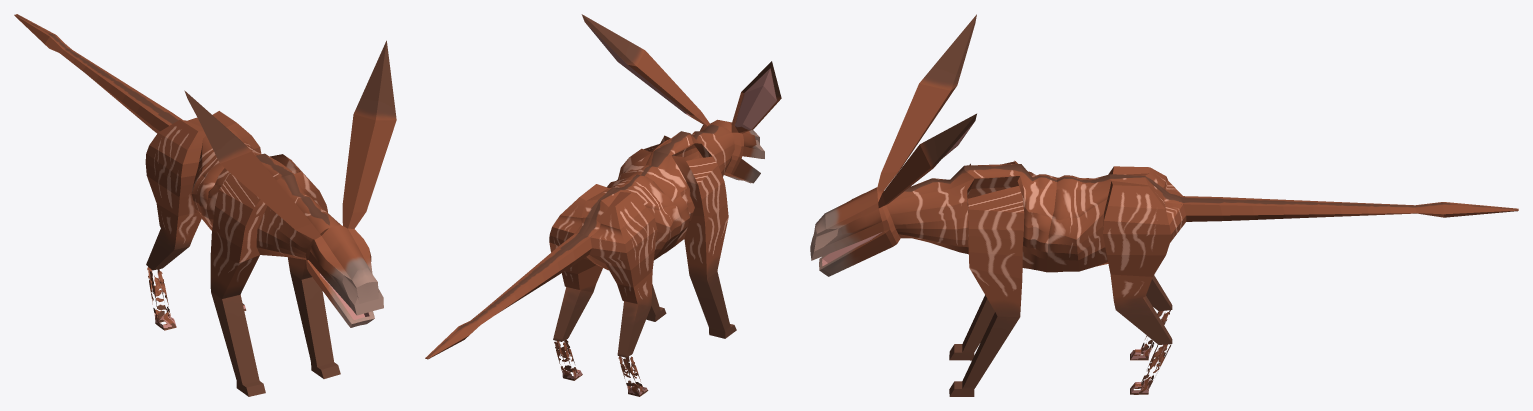
The model's file is TestModel.obj.
3 views of the same model, side by side, from view 1: azimuth 30°, elevation 25°; view 2: azimuth 150°, elevation 25°; view 3: azimuth 270°, elevation 25° (orthographic). The views are drawn at different scales.
Parts seen in each view (by area): view 1: RigModel; view 2: RigModel; view 3: RigModel.
Part boxes in pixels (box(x1,y1,x2,y2)): RigModel: box(14, 14, 396, 396); RigModel: box(425, 14, 781, 396); RigModel: box(810, 14, 1518, 396).
Size of the model in its own units: 63.92 by 93.61 by 192.
Materials: 1 (1 with a texture image).
